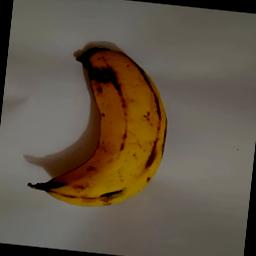Banana Unripe: (28, 36, 180, 216)
